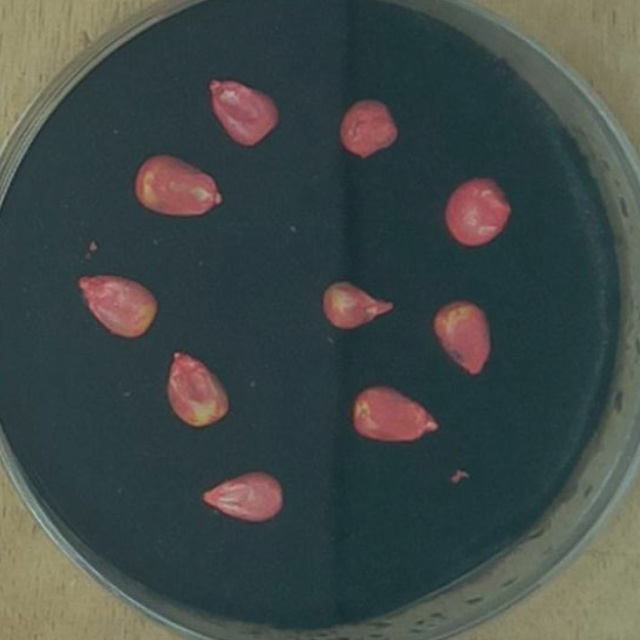Zea mays: (129, 145, 231, 224), (69, 265, 164, 347), (344, 375, 447, 450), (159, 339, 238, 435), (202, 67, 287, 155), (437, 167, 519, 254), (426, 290, 500, 385), (194, 461, 290, 530), (314, 268, 403, 339), (333, 88, 408, 166)
